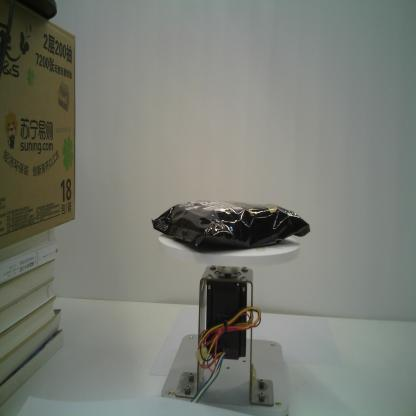Instant Noodles: (151, 200, 311, 252)
